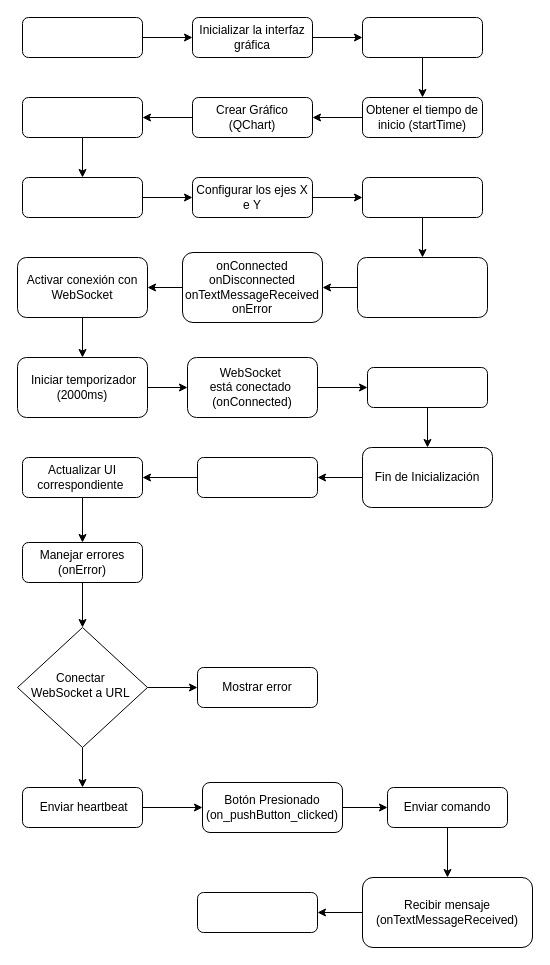
The diagram is 550 pixels wide and 965 high, and some of its shapes have lost their labels. Each missing label, with the centre of its shape:
Actualizar estado de conexión: [427,387]
Añadir series al gráfico: [82,197]
Conectar señal de WebSocket y manejar eventos: [422,287]
Configurar QChartView en la UI: [422,197]
Crear las series (QLineSeries): [82,117]
Establecer el foco en la ventana: [422,37]
Fin del Flujo: [257,912]
MainWindow: [82,37]
Procesar mensaje JSON: [257,477]
